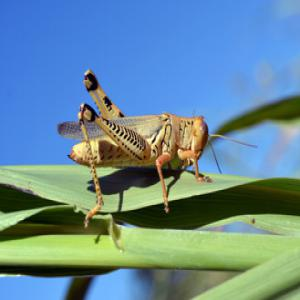locust: (54, 61, 224, 197)
